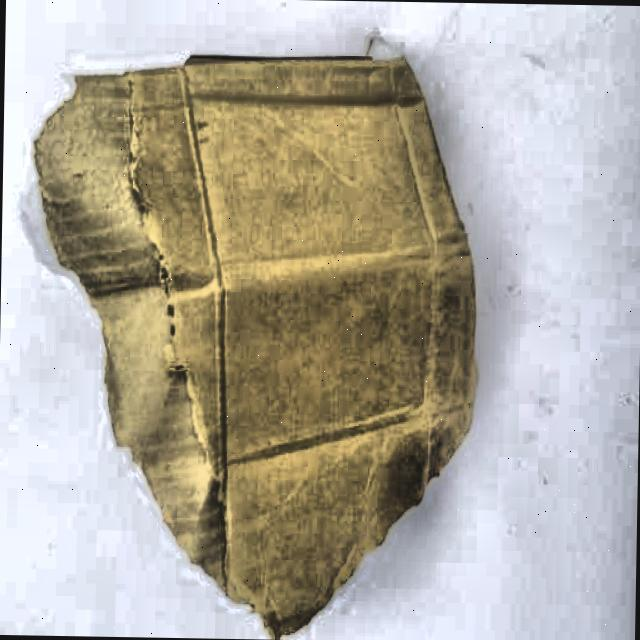cardboard: (21, 39, 486, 626)
